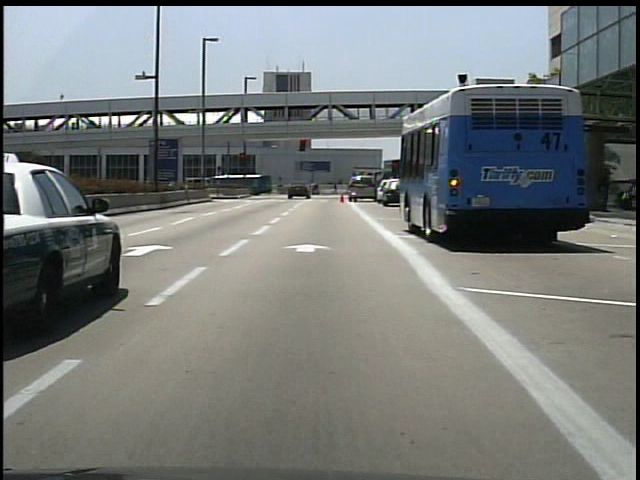person: (311, 182, 321, 197), (331, 181, 340, 196)
